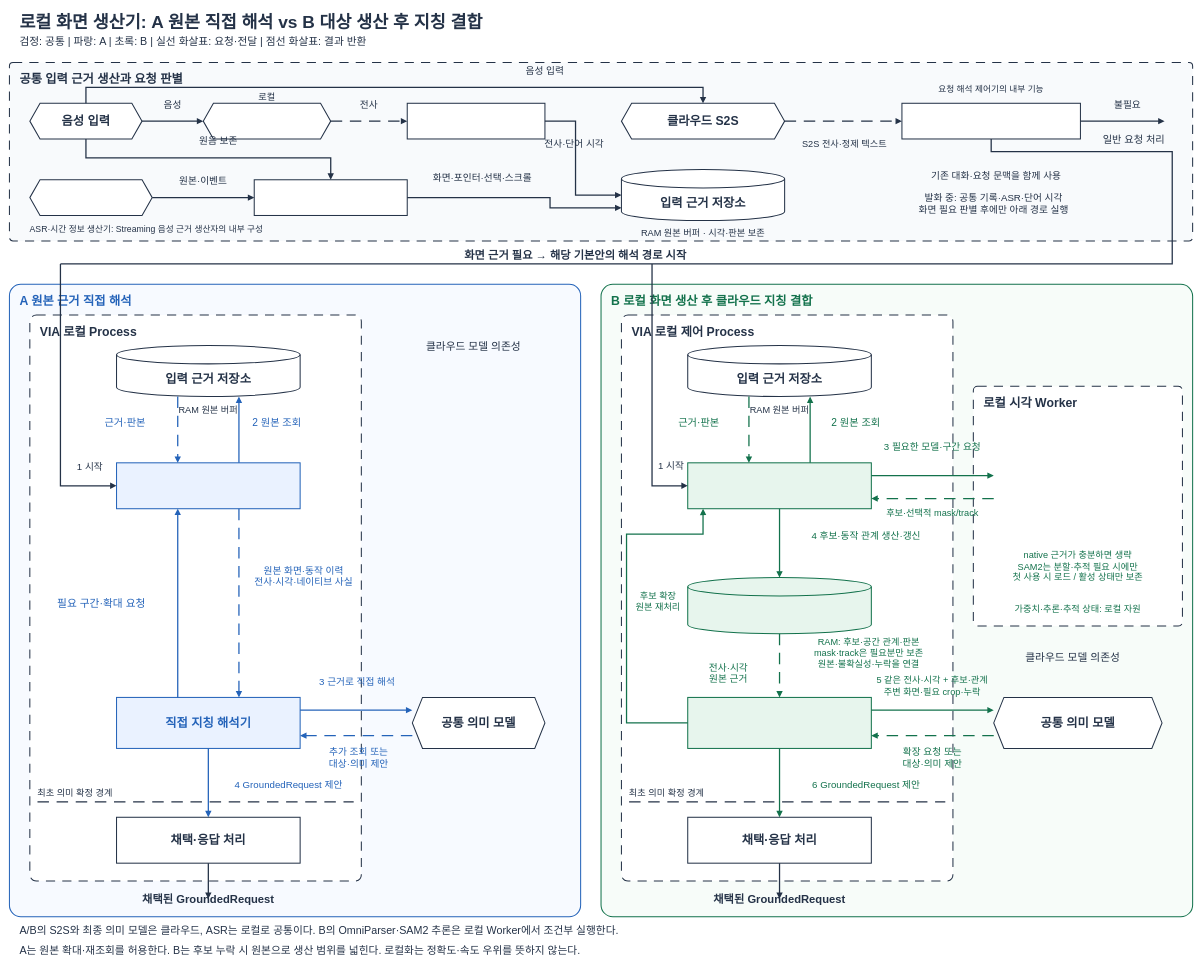
Some shapes in this 1202 by 968 pixel diagram are drawn without their labels. The centre of each missing label's shape, as x and y in pixels:
"Streaming ASR" goes at point 266,121.
"근거 조회기" goes at point 208,485.
"대상·동작 기록" goes at point 779,605.
"시간 정보 생산기" goes at point 475,121.
"입력 근거 기록기" goes at point 330,197.
"지칭 결합기" goes at point 779,723.
"화면 근거 필요 판별기" goes at point 991,121.
"화면 대상 생산기" goes at point 779,485.
"화면·마우스 입력" goes at point 90,197.
